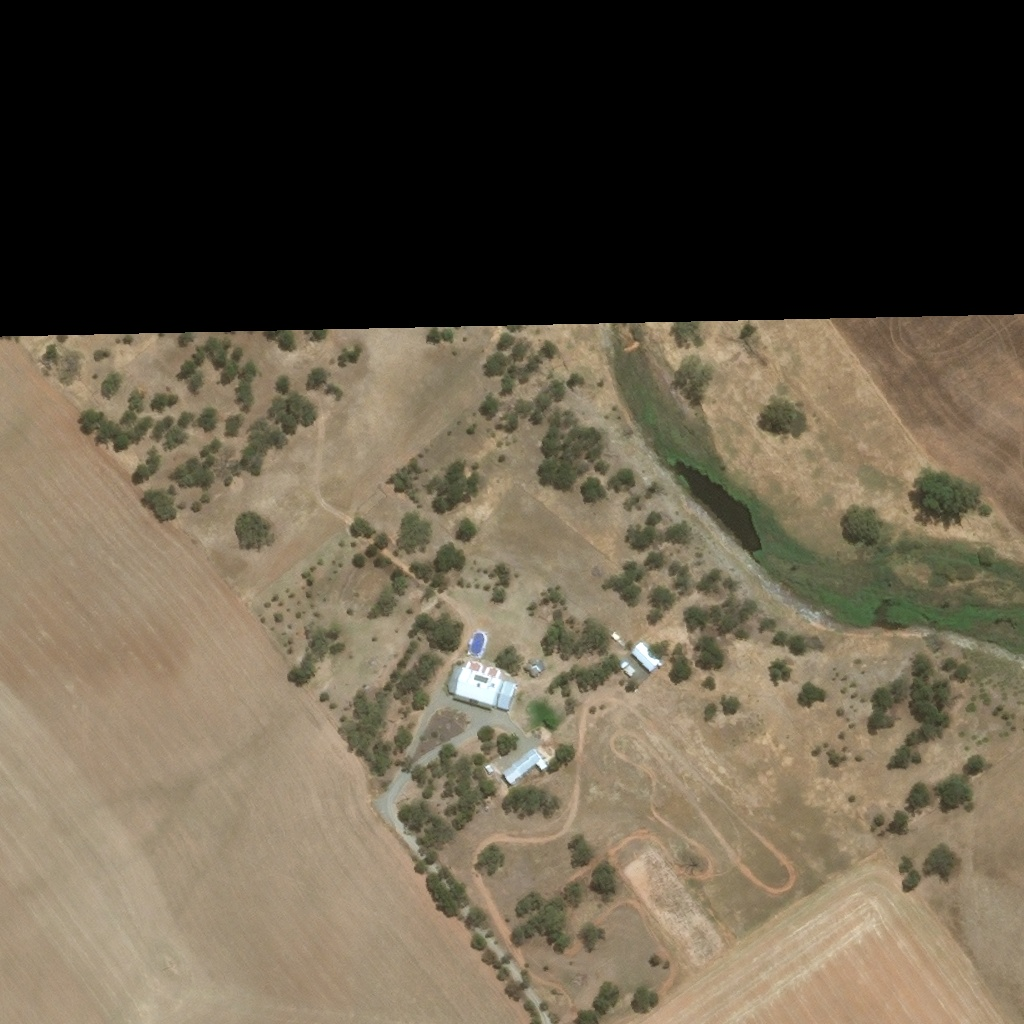0 no-damage: (446, 657, 516, 710), (499, 744, 549, 783), (628, 638, 662, 671), (520, 653, 547, 678), (621, 661, 636, 676), (607, 628, 621, 640), (482, 762, 493, 772), (618, 657, 627, 667)
